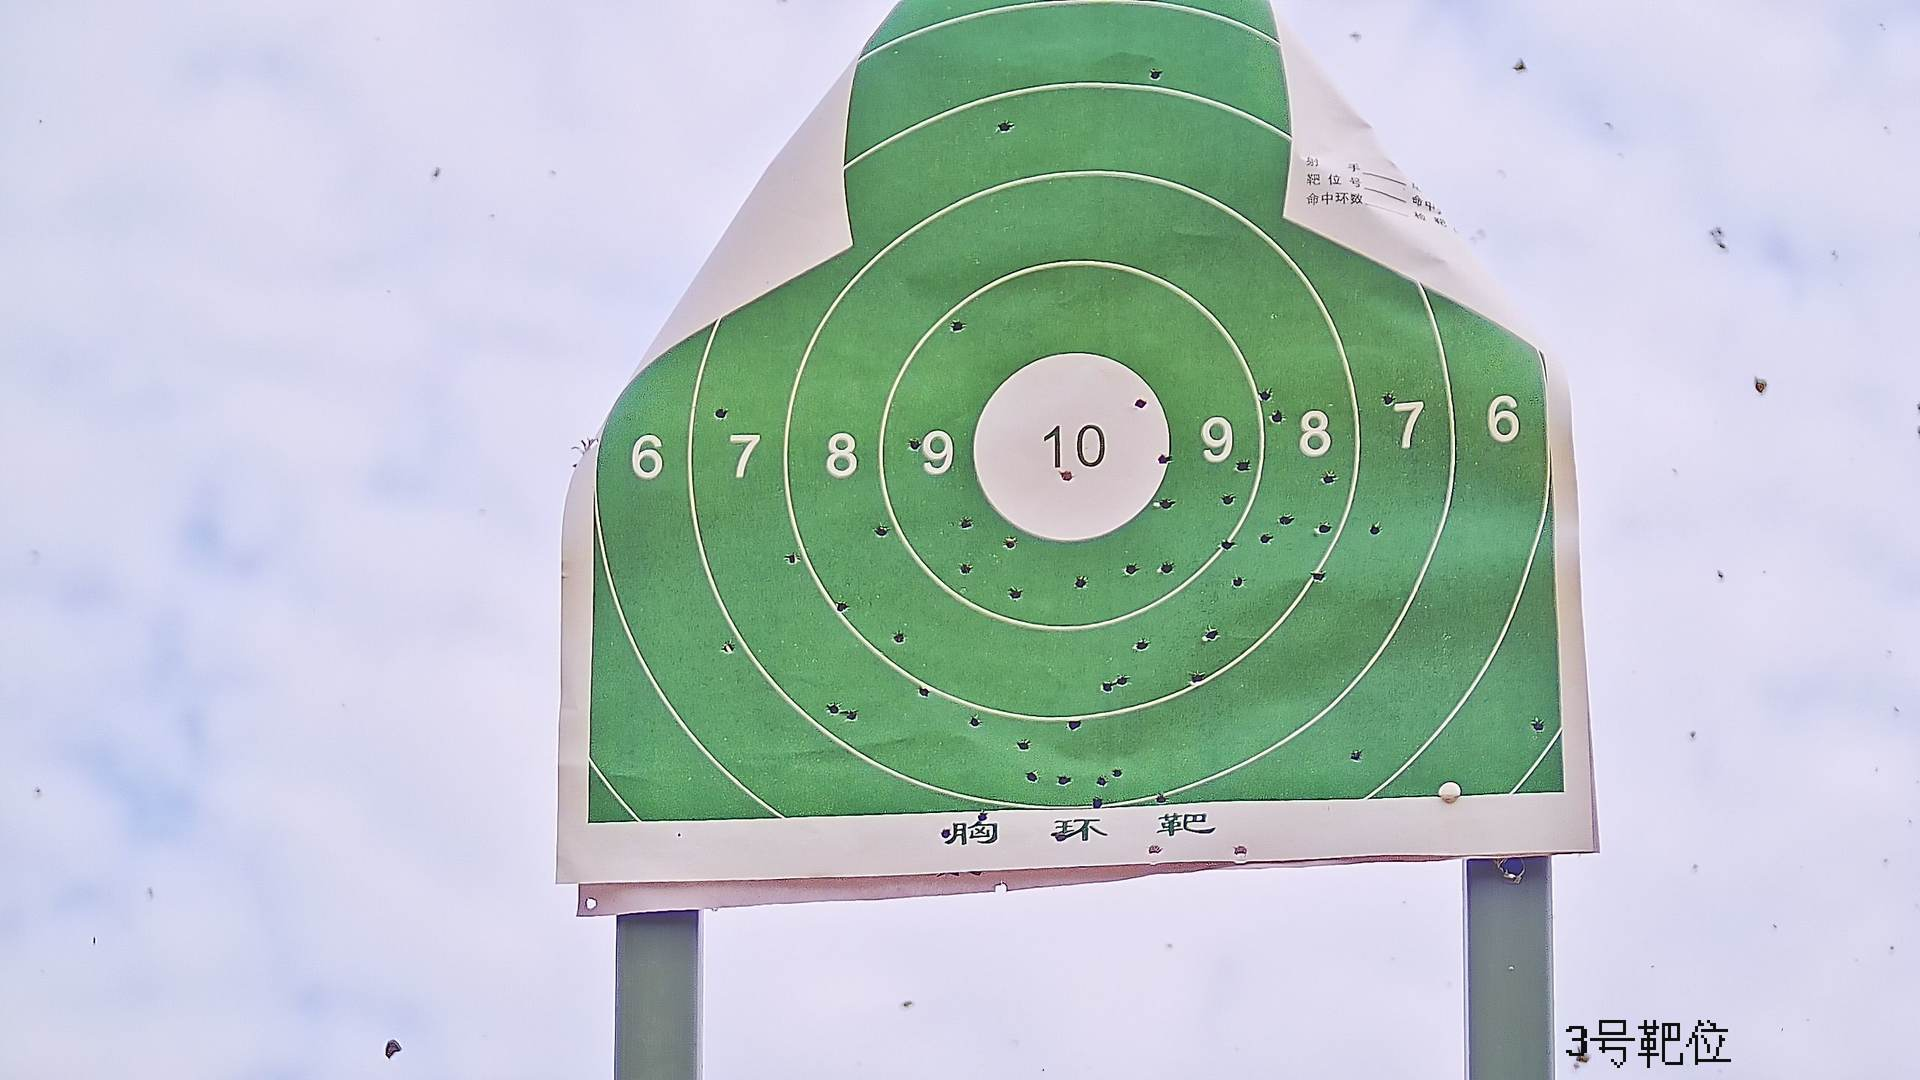hole: (1075, 575, 1093, 593), (1276, 512, 1295, 527), (1017, 738, 1033, 756), (1060, 465, 1075, 484), (1317, 520, 1333, 535), (1204, 626, 1218, 644), (1124, 560, 1138, 578), (906, 436, 920, 454), (1232, 843, 1250, 856), (1221, 491, 1237, 505), (1158, 559, 1174, 574), (1532, 715, 1545, 732), (1065, 716, 1083, 729), (1312, 570, 1327, 584), (1270, 409, 1283, 425), (1257, 386, 1273, 400), (1091, 796, 1106, 810), (967, 713, 982, 727), (1236, 460, 1253, 472), (1054, 828, 1065, 845), (720, 641, 738, 651), (1007, 584, 1022, 597), (957, 516, 971, 530), (876, 521, 889, 535), (786, 550, 800, 563), (715, 406, 728, 421), (1323, 471, 1335, 487), (1348, 748, 1364, 760), (1146, 843, 1162, 855), (1379, 393, 1396, 404), (1369, 522, 1382, 535), (1222, 539, 1236, 553), (1158, 452, 1171, 465), (1135, 640, 1149, 653), (1117, 673, 1130, 686), (916, 686, 930, 699), (828, 700, 841, 713), (1192, 670, 1204, 684), (1149, 69, 1164, 79), (951, 319, 967, 330), (1027, 769, 1038, 785), (1261, 531, 1274, 543), (1159, 498, 1172, 510), (1155, 793, 1167, 806), (1112, 767, 1124, 781), (1004, 538, 1017, 550), (835, 600, 848, 612), (1098, 680, 1114, 690), (1058, 775, 1073, 785), (938, 828, 953, 837), (1000, 121, 1011, 133), (1232, 575, 1245, 585), (961, 562, 971, 576), (1134, 398, 1145, 410), (894, 632, 905, 644), (1095, 775, 1108, 785), (977, 808, 986, 820), (847, 709, 858, 719)
target: (588, 3, 1569, 820)
ten: (971, 351, 1172, 547)
